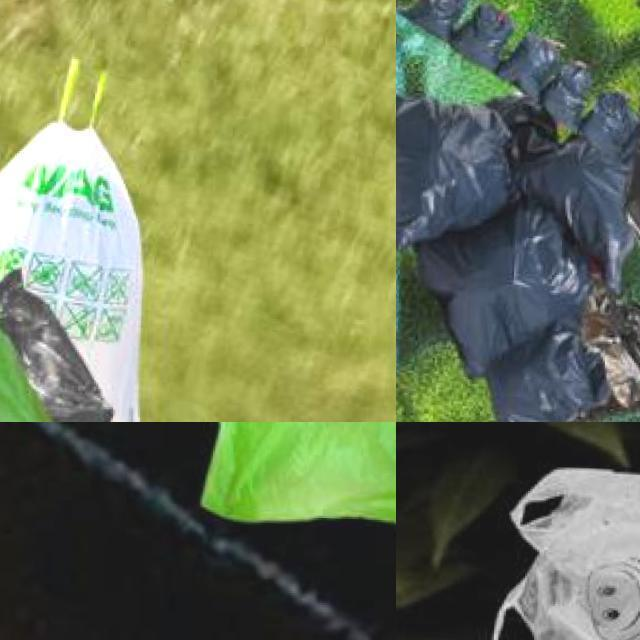waste: (410, 195, 594, 362), (518, 87, 636, 290), (193, 422, 396, 540), (519, 465, 640, 640), (396, 81, 526, 239), (0, 265, 119, 422), (484, 317, 615, 422), (411, 0, 495, 66), (536, 52, 588, 137), (580, 86, 632, 161), (459, 5, 516, 70), (514, 28, 560, 102), (416, 0, 472, 41)
